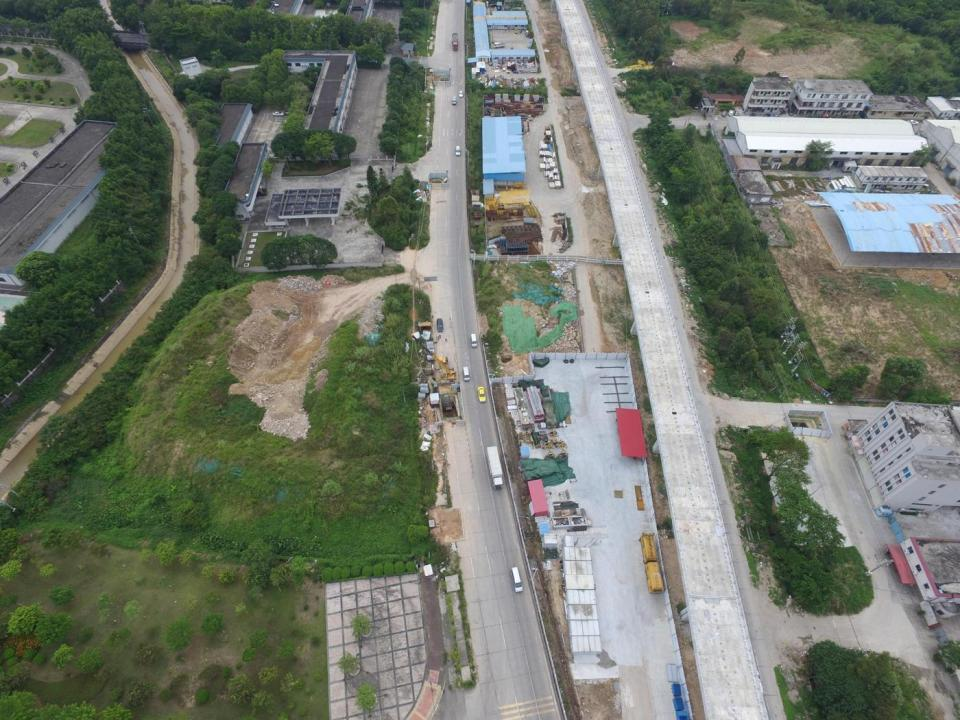car: (478, 386, 487, 403), (436, 318, 444, 332), (906, 118, 917, 126), (272, 110, 283, 116), (762, 113, 770, 119), (721, 109, 727, 116), (772, 114, 779, 120), (749, 112, 754, 120), (734, 109, 739, 116), (459, 90, 463, 98), (728, 109, 733, 115)
truck: (485, 446, 504, 490), (451, 32, 459, 52), (451, 94, 457, 106), (493, 42, 505, 48)
van: (510, 566, 523, 592), (463, 366, 470, 382), (470, 334, 477, 348), (454, 145, 462, 155), (787, 108, 794, 116)
